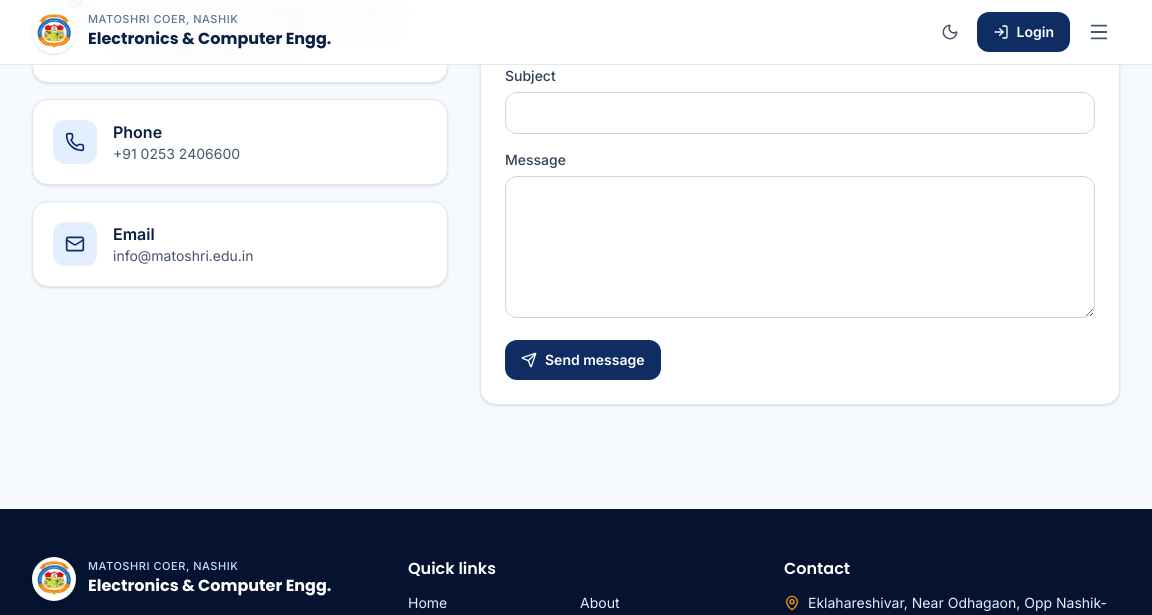
Test: public pages (demo mode) › contact form shows inline validation errors and does not submit
(page scrolled)
Click the button "Send message" at (583, 360), box [505, 340, 661, 380]
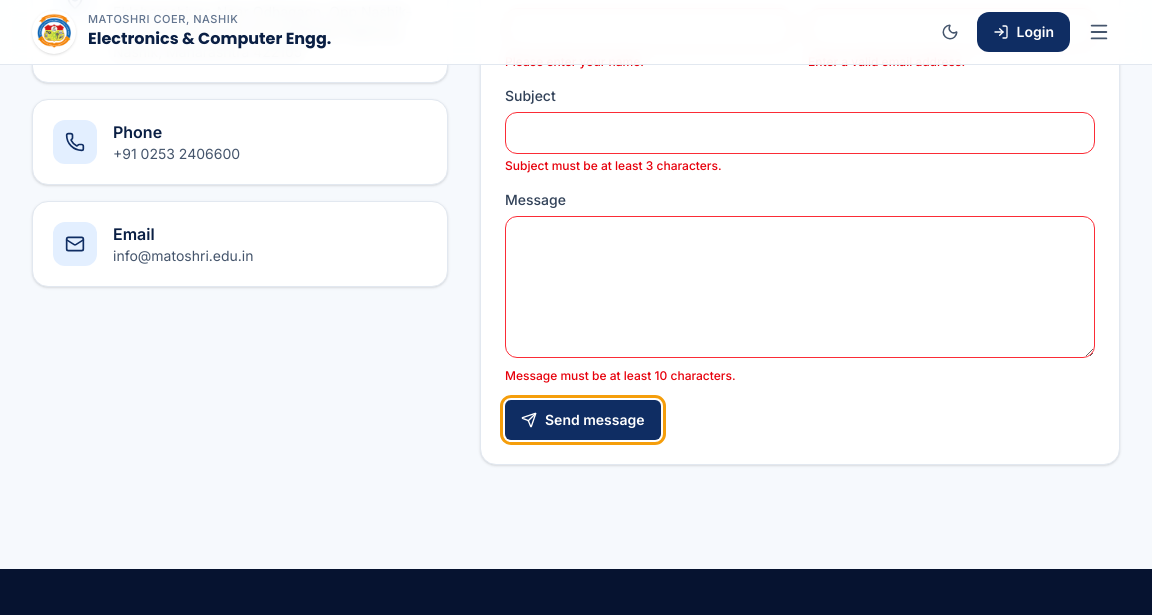
expect the text "Please enter your name." is shown: met, box [505, 54, 644, 69]
expect the text "Enter a valid email address." is shown: met, box [808, 54, 965, 69]
